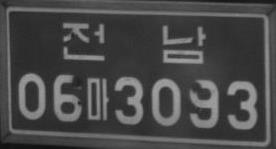0: (150, 77, 181, 126), (16, 72, 47, 119)
3: (226, 79, 258, 130), (114, 75, 143, 125)
6: (52, 73, 82, 122)
9: (188, 78, 219, 128)
마: (85, 77, 110, 121)
전남_D: (62, 21, 206, 63)
